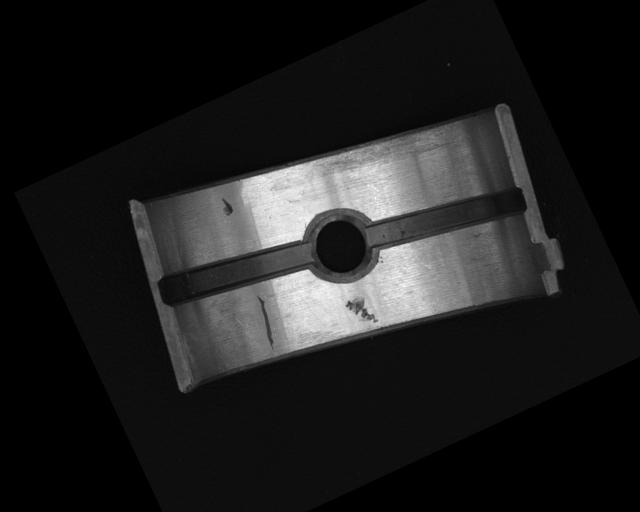bruise: (342, 290, 381, 332), (217, 195, 235, 218)
gap: (361, 159, 529, 275), (156, 217, 316, 325)
hole: (293, 196, 385, 290)
nick: (247, 293, 285, 353)
scratch: (306, 105, 447, 201)
